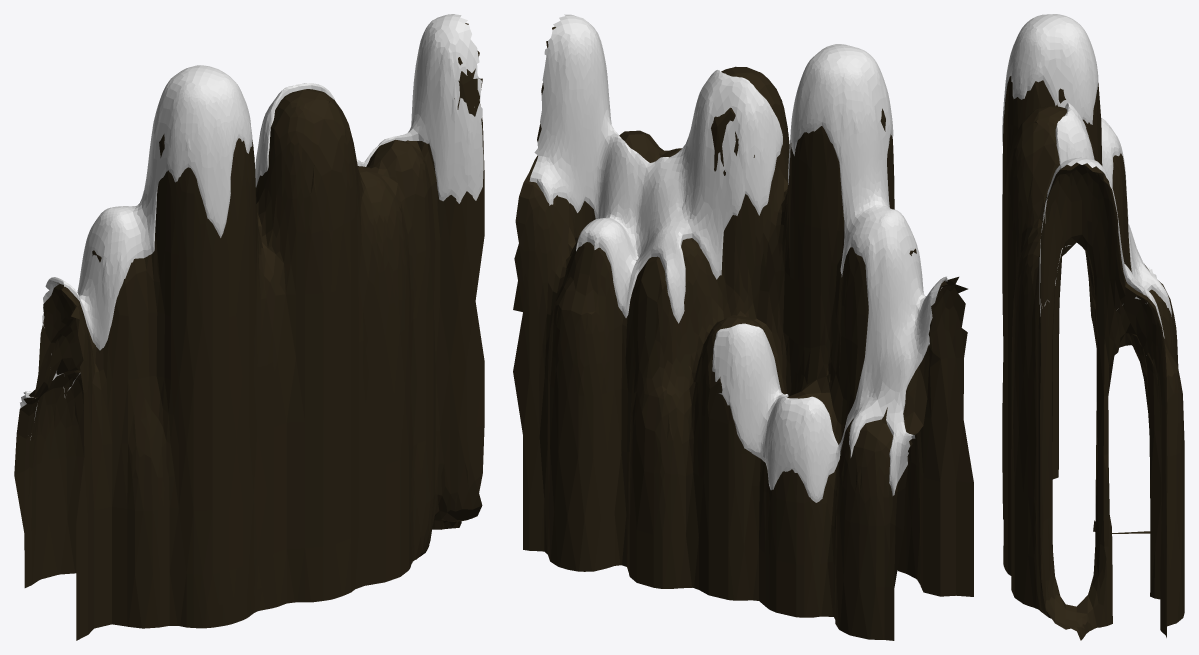
Rendered from Mtn_Wall_E2_M.fbx.
The picture shows the model from 3 angles, left to right: view 1: azimuth 30°, elevation 25°; view 2: azimuth 150°, elevation 25°; view 3: azimuth 270°, elevation 25°; orthographic projection. The views are drawn at different scales.
Parts seen in each view (by area): view 1: Mtn_Wall_E2_M; view 2: Mtn_Wall_E2_M; view 3: Mtn_Wall_E2_M.
Part boxes in pixels (x1,y1,x2,y2): Mtn_Wall_E2_M: (14, 14, 484, 640); Mtn_Wall_E2_M: (513, 14, 973, 640); Mtn_Wall_E2_M: (1002, 14, 1184, 640).
Bounding box in the file's own units: 22297 × 27950 × 9263.
